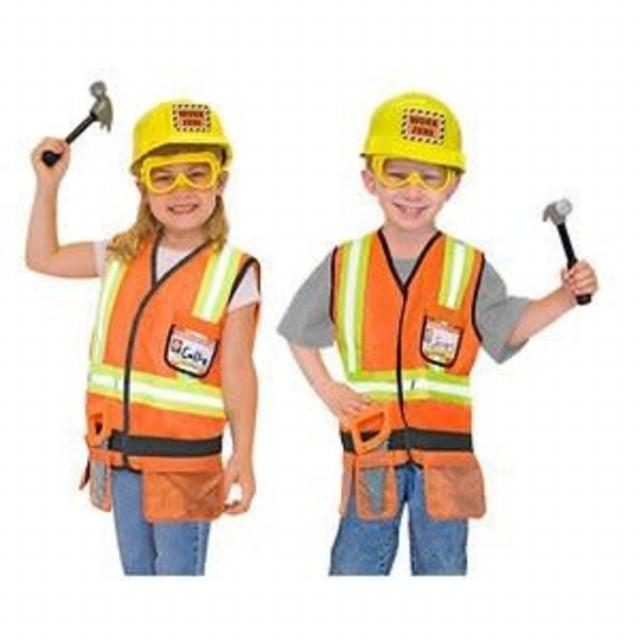Reflective-Jacket: (81, 229, 251, 478), (326, 227, 490, 469)
Safety-Helmet: (353, 82, 475, 174), (122, 86, 239, 165)
